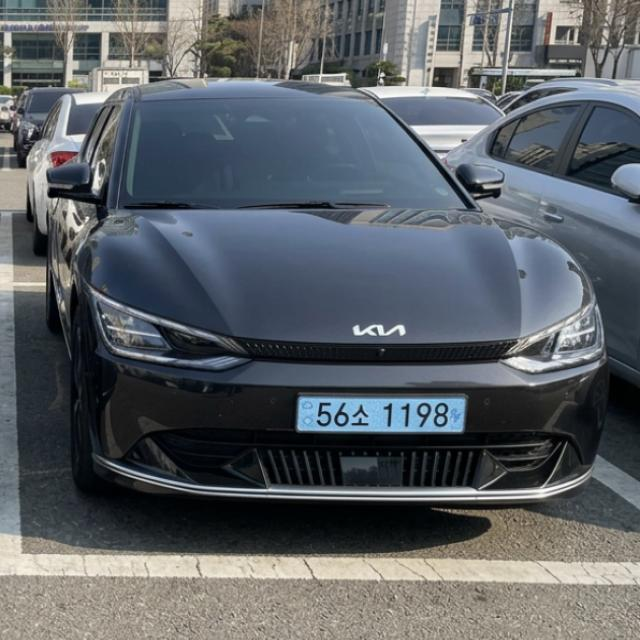car: (274, 383, 504, 451)
carev: (447, 394, 467, 444), (297, 394, 316, 434)
